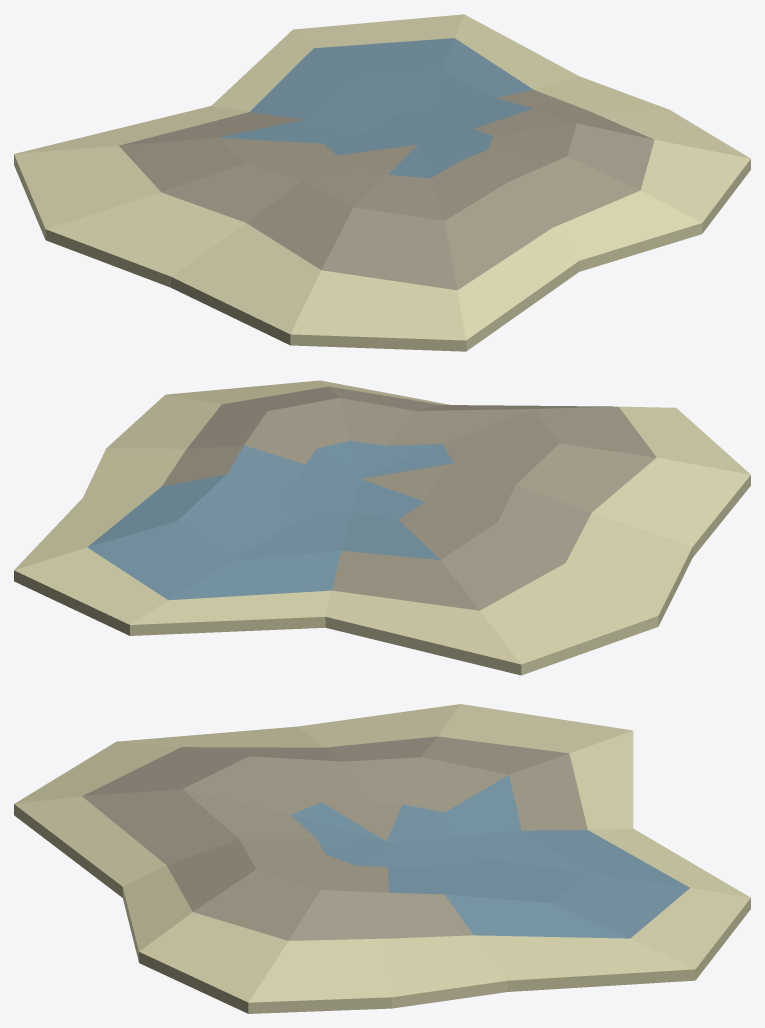
The model's file is terrain_001f_rocky_floor.glb.
3 views of the same model, one above another, from view 1: azimuth 30°, elevation 25°; view 2: azimuth 150°, elevation 25°; view 3: azimuth 270°, elevation 25° (orthographic). The views are drawn at different scales.
Visible parts, largest first — view 1: terrain_001f_rocky_floor__mesh; view 2: terrain_001f_rocky_floor__mesh; view 3: terrain_001f_rocky_floor__mesh.
Part boxes in pixels (left/top/right/bottom): terrain_001f_rocky_floor__mesh: left=14, top=14, right=750, bottom=351; terrain_001f_rocky_floor__mesh: left=14, top=380, right=750, bottom=675; terrain_001f_rocky_floor__mesh: left=14, top=704, right=750, bottom=1013.
Bounding box in the file's own units: 5.1 × 0.4782 × 5.32.
